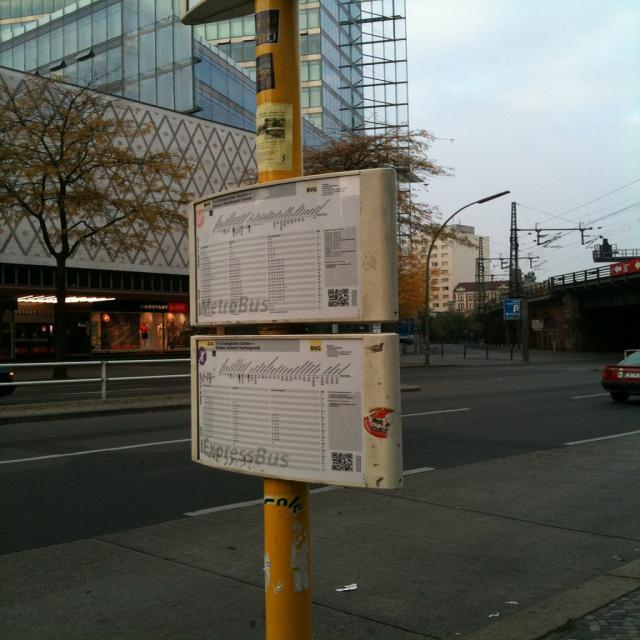qrcode: (333, 454, 354, 473), (329, 290, 350, 307)
